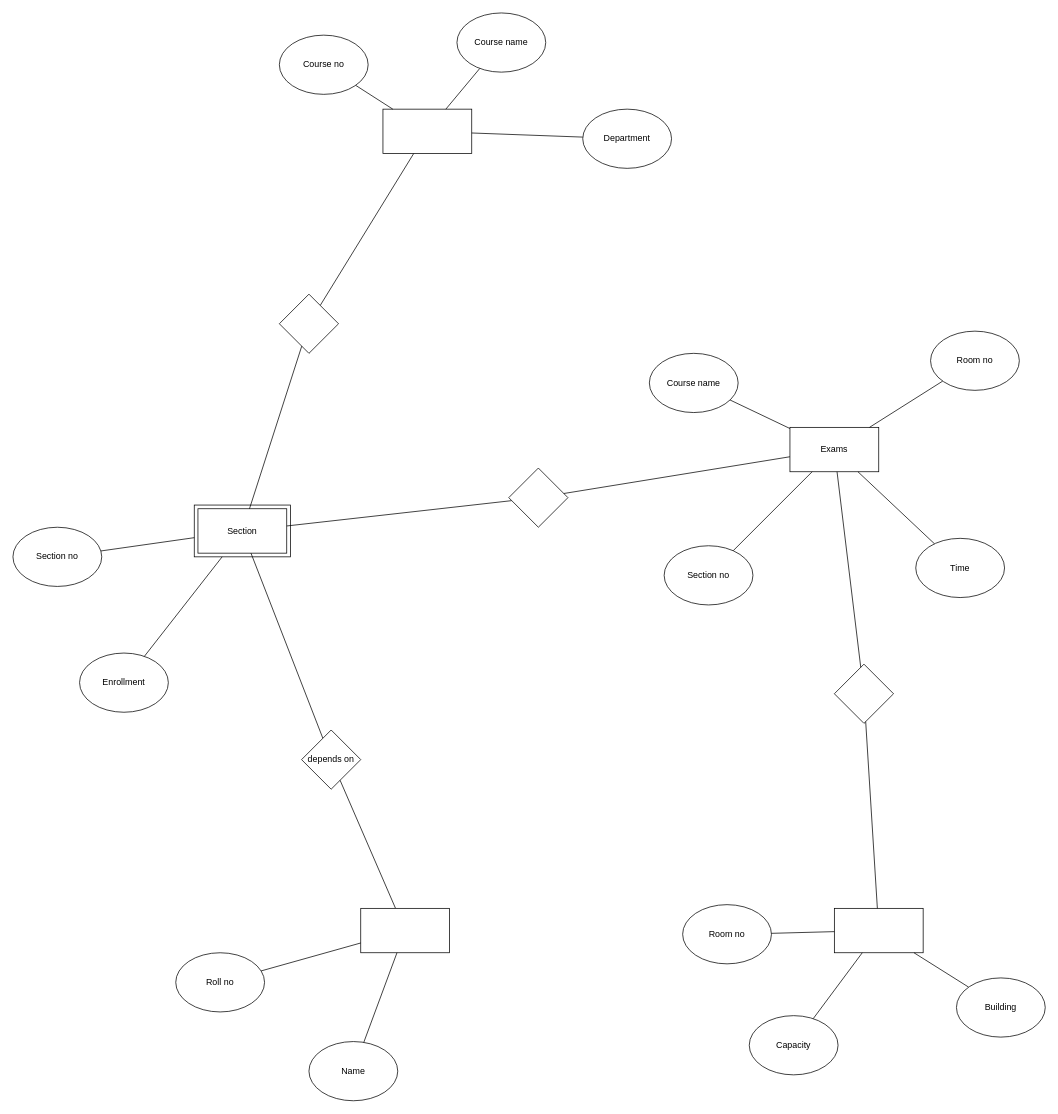
The diagram is 1058 pixels wide and 1114 high, and some of its shapes have lost their labels. The shapes that lost their labels are listed below. From the top down, each one's centre as x and y in pixels, then its label:
point (427, 131): Course
point (309, 323): enrolls
point (538, 497): conducts
point (864, 693): conducted in
point (405, 930): Student
point (878, 930): Room
